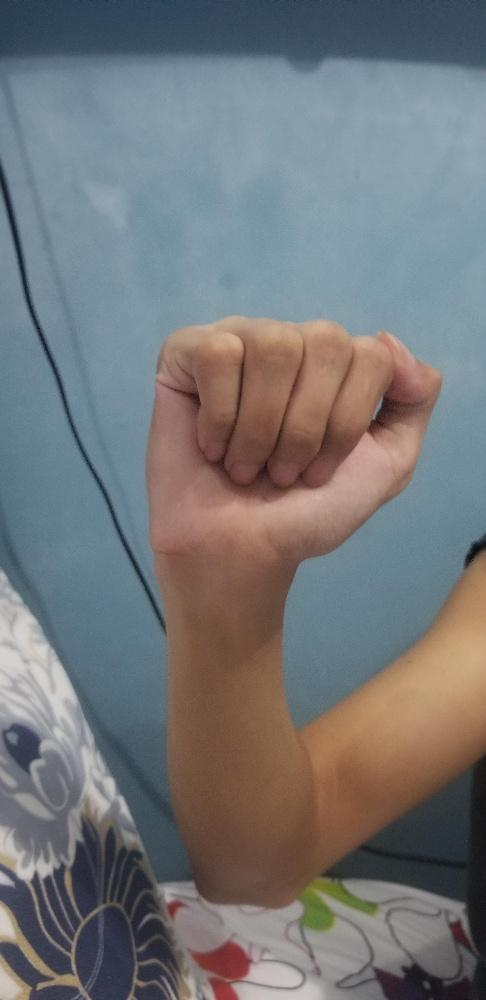a: (131, 312, 449, 565)
